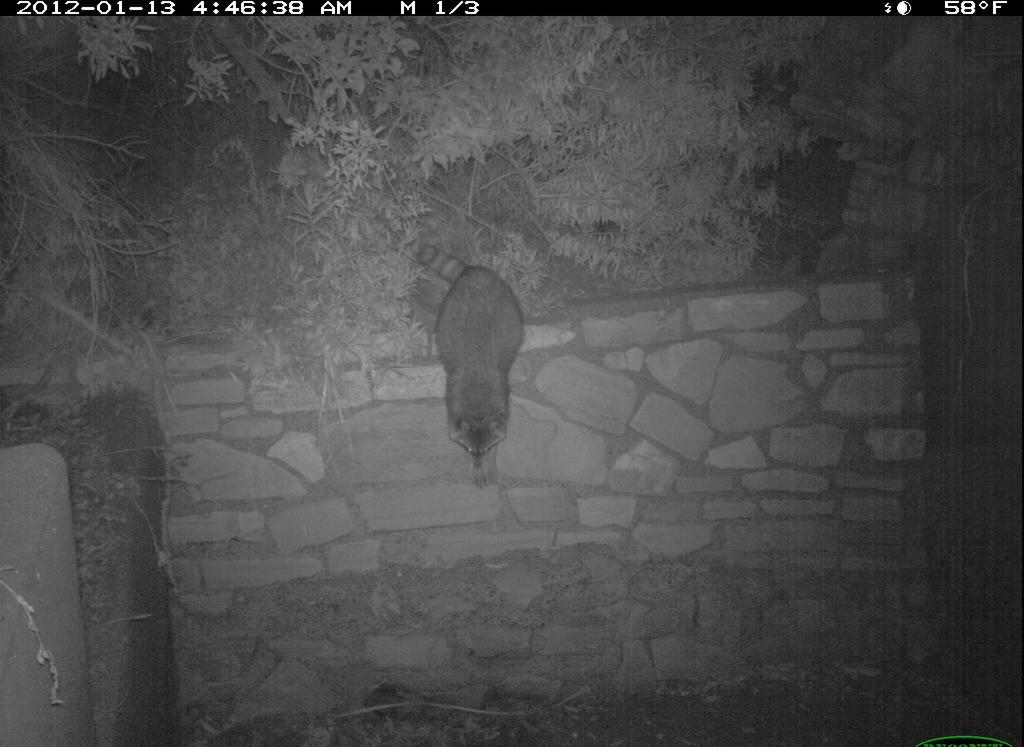raccoon: (409, 237, 533, 496)
